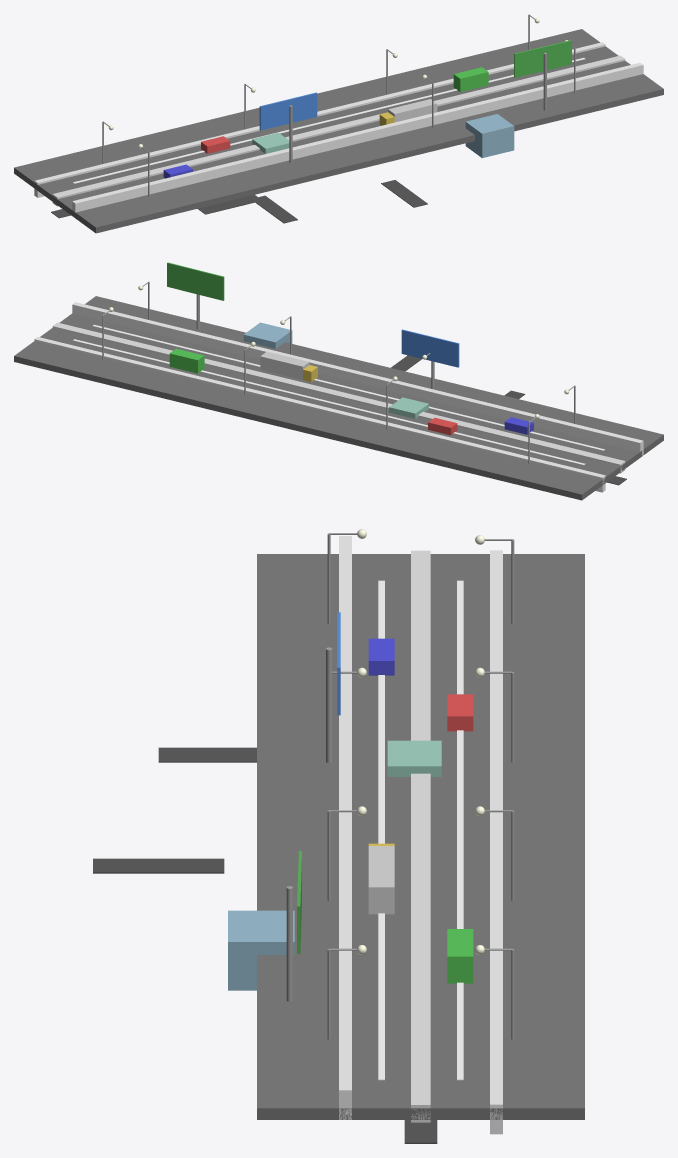
3 renders of one model, top to bottom at view 1: azimuth 30°, elevation 25°; view 2: azimuth 150°, elevation 25°; view 3: azimuth 270°, elevation 25°, orthographic. The views are drawn at different scales.
Parts seen in each view (by area): view 1: Highway_Road.001; view 2: Highway_Road.001; view 3: Highway_Road.001.
Part boxes in pixels (left/top/right/bottom): Highway_Road.001: left=14, top=14, right=663, bottom=233; Highway_Road.001: left=14, top=262, right=663, bottom=500; Highway_Road.001: left=93, top=529, right=584, bottom=1143.
Size of the model in its own units: 4000 by 530 by 1500.
